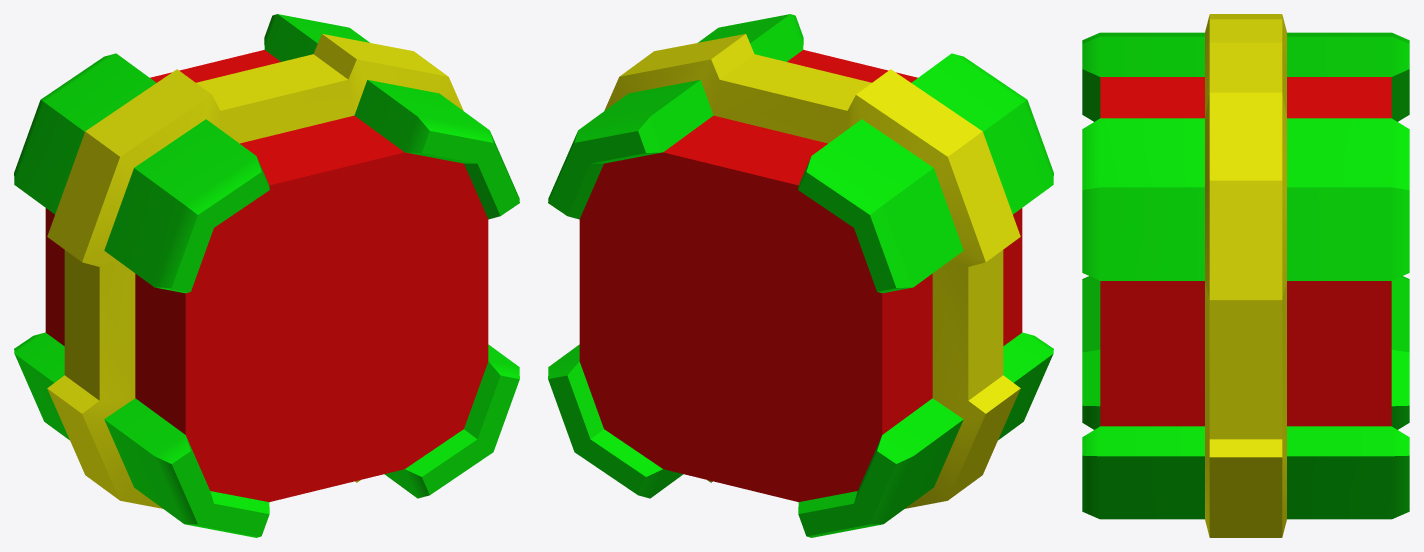
File: EnergyContainerB.fbx
The picture shows the model from 3 angles, left to right: view 1: azimuth 30°, elevation 25°; view 2: azimuth 150°, elevation 25°; view 3: azimuth 270°, elevation 25°; orthographic projection. The views are drawn at different scales.
Visible parts, largest first — view 1: GenericContainer4; view 2: GenericContainer4; view 3: GenericContainer4.
Boxes of the visible parts, bbox=[...] form: GenericContainer4: bbox=[14, 14, 519, 537]; GenericContainer4: bbox=[548, 14, 1053, 537]; GenericContainer4: bbox=[1082, 14, 1409, 537].
Bounding box in the file's own units: 2.96 × 2.96 × 2.
